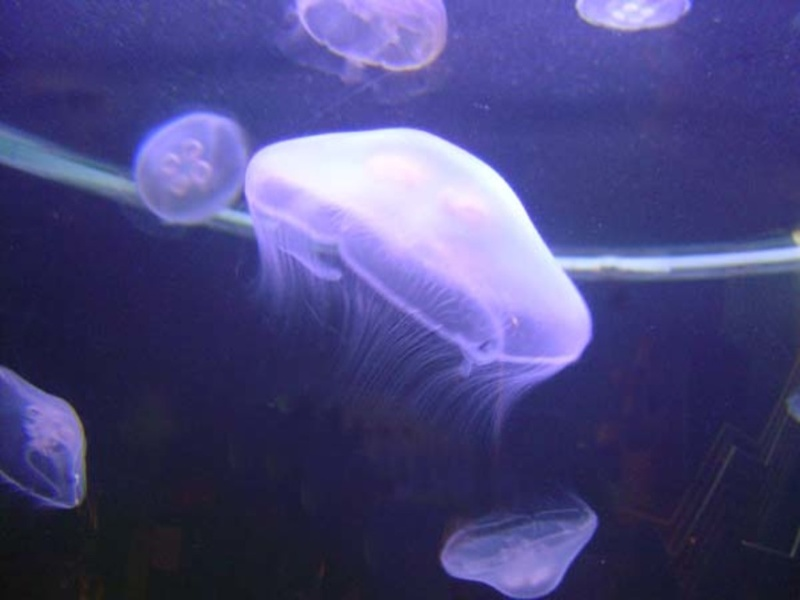Jellyfish: (0, 0, 690, 600)
